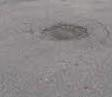pothole: (43, 22, 90, 40)
